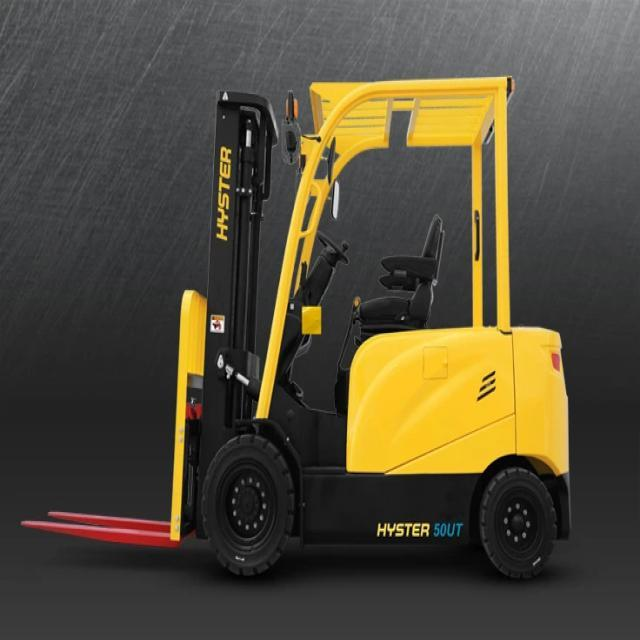forklift: (152, 49, 588, 606)
